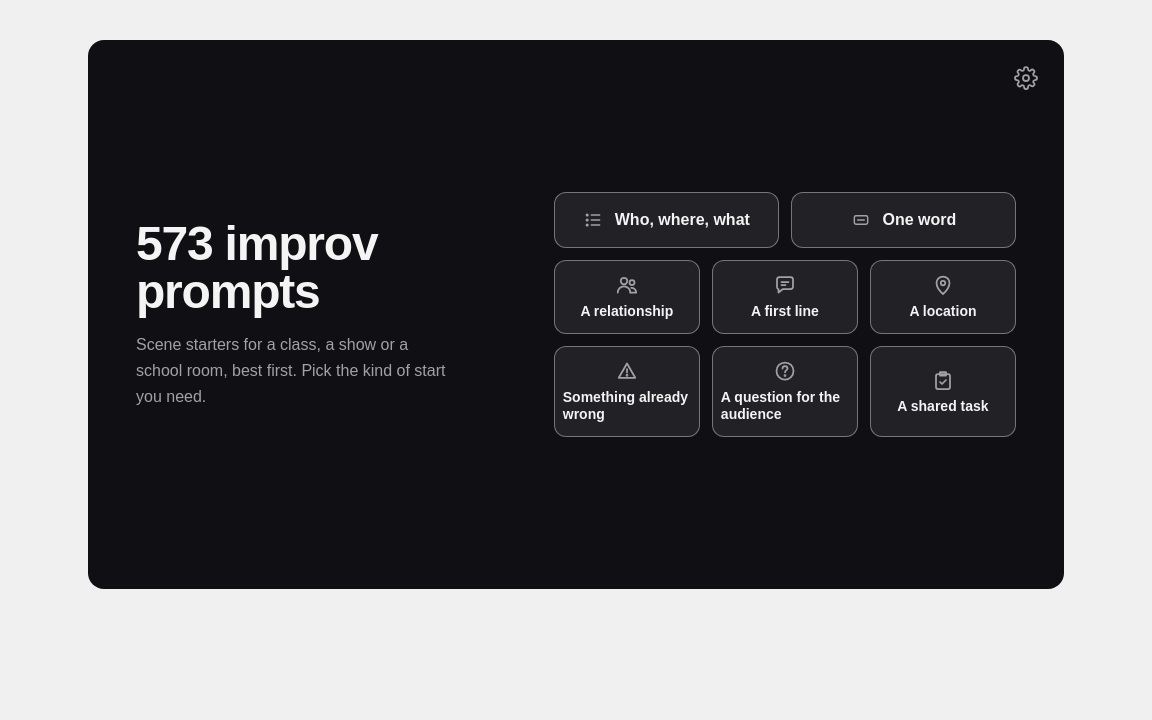
Test: PromptGenerator › offers every kind of prompt the article has a section for, one step back
The width and height of the screenshot is (1152, 720).
Click the button "A relationship": (627, 297) [554,260,700,334]
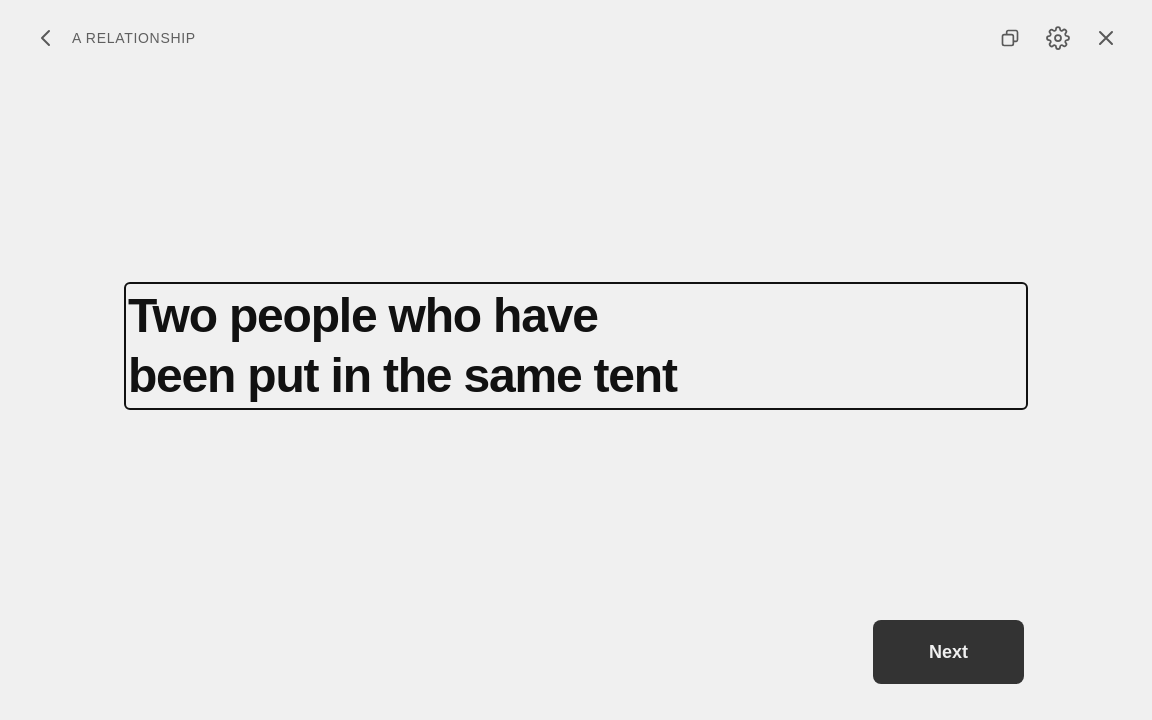
Click the button named "different kind": (46, 38) [24,16,68,60]
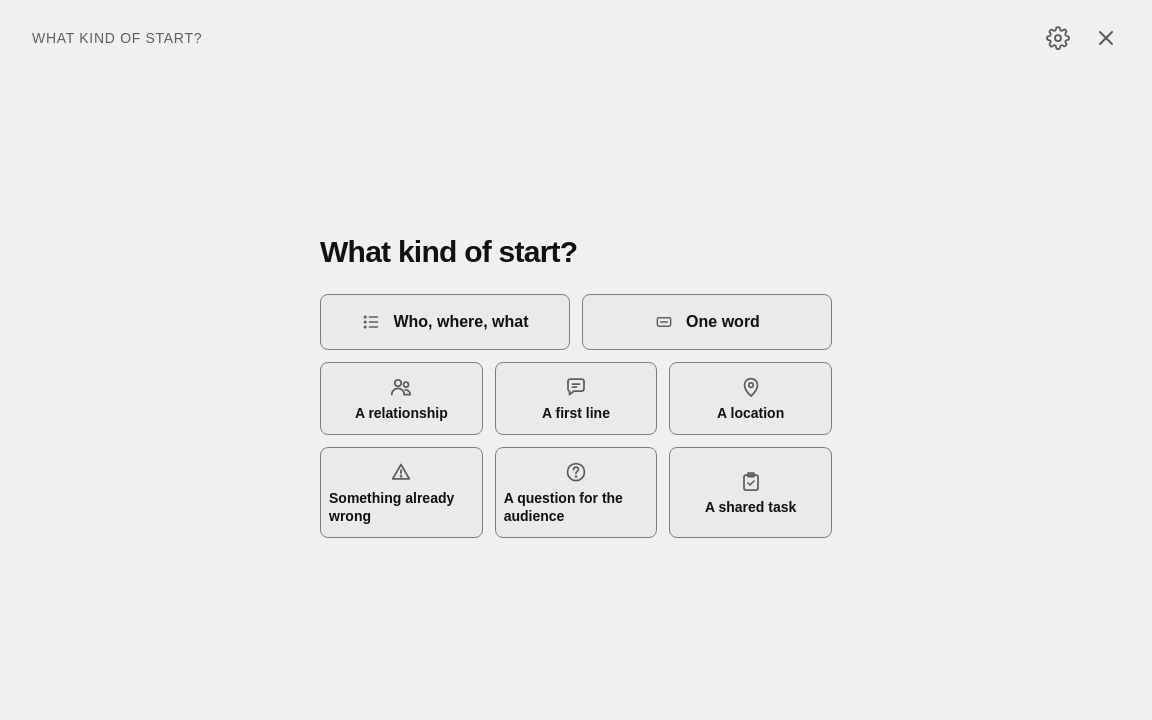
Check: the button "A relationship" is shown, box [320,362,483,435]
Check: the button "A first line" is shown, box [495,362,657,435]
Check: the button "A location" is shown, box [669,362,832,435]
